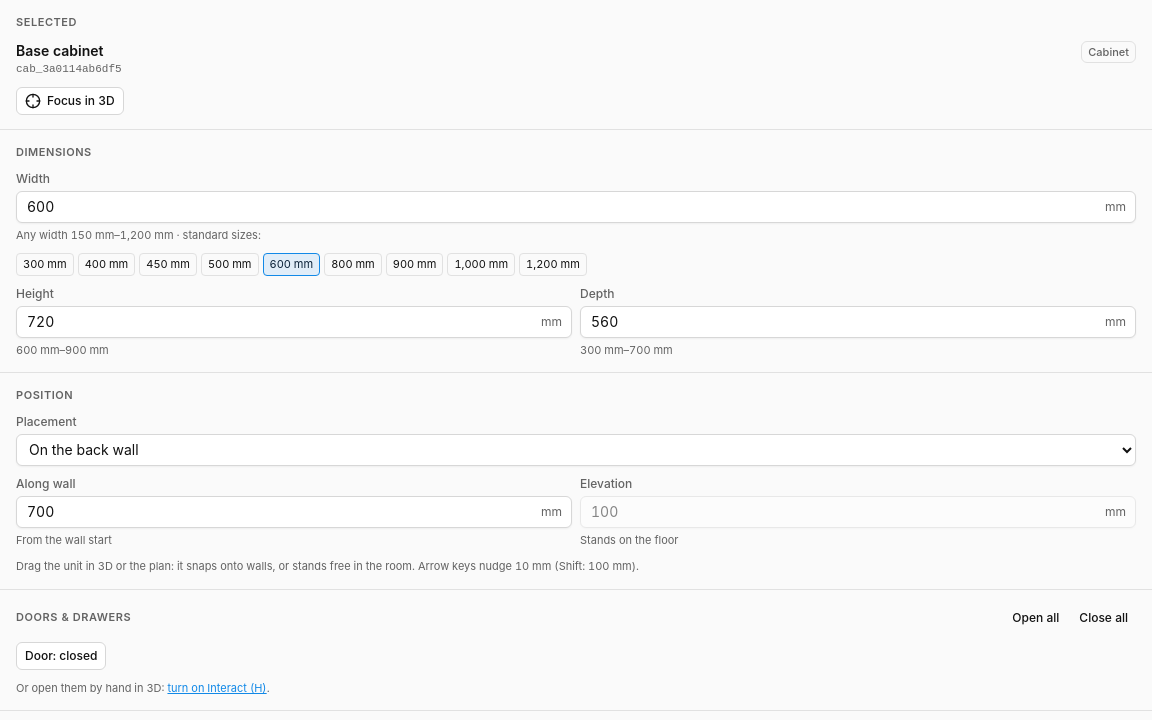
Test case: ElementInspector › never sends non-numeric input to the domain
This screenshot has width=1152, height=720.
Replace the text in the field with test id "inspector-width" with "wide" at {"x": 576, "y": 206}, box top-left (16, 190), bottom-right (1136, 222)
Then press Enter
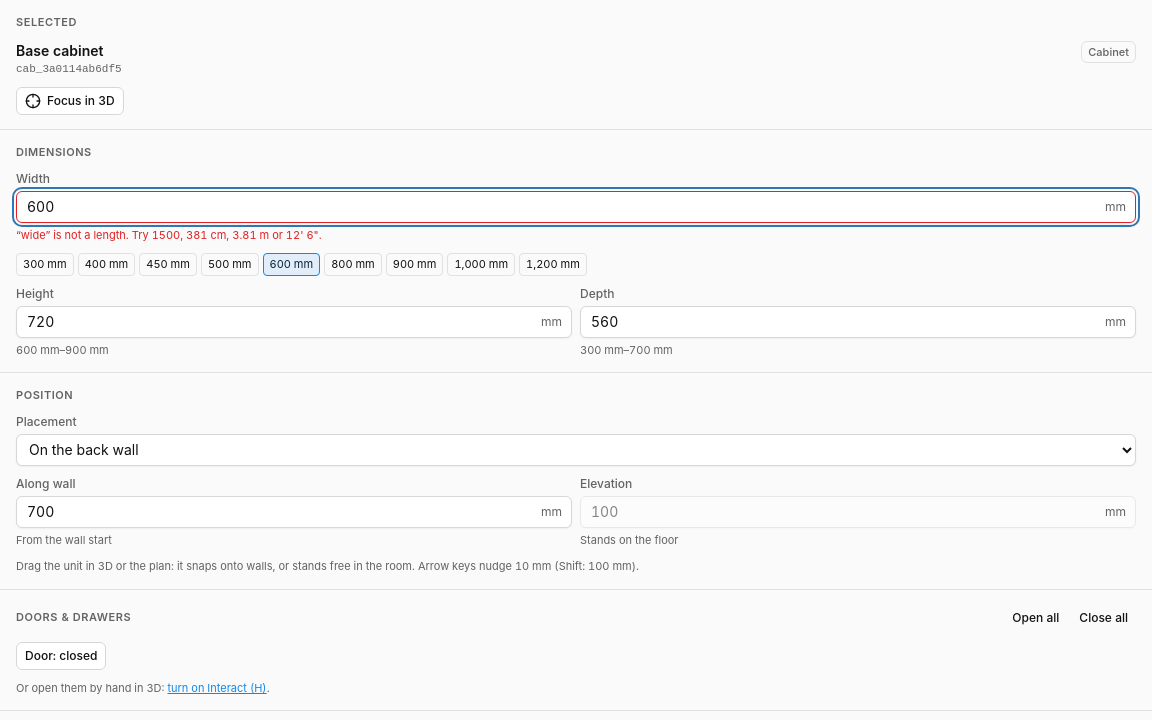
Expected: the message shows "“wide” is not a length", top-left (16, 228), bottom-right (322, 242)
